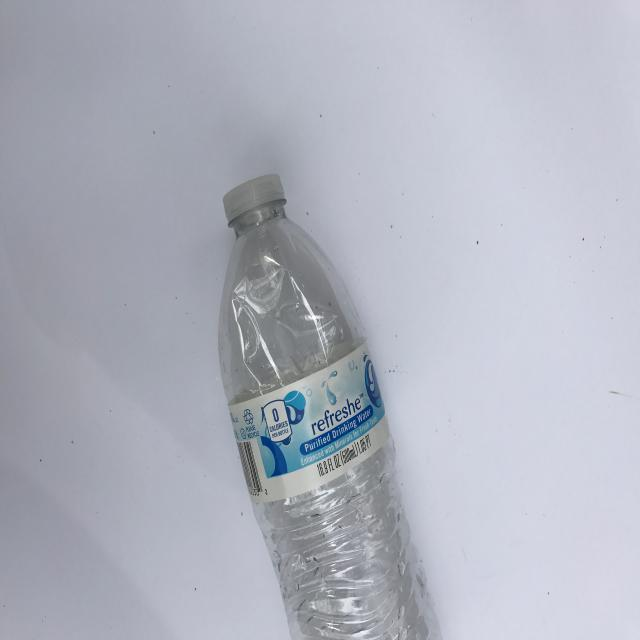Plastic: (161, 106, 440, 640)
